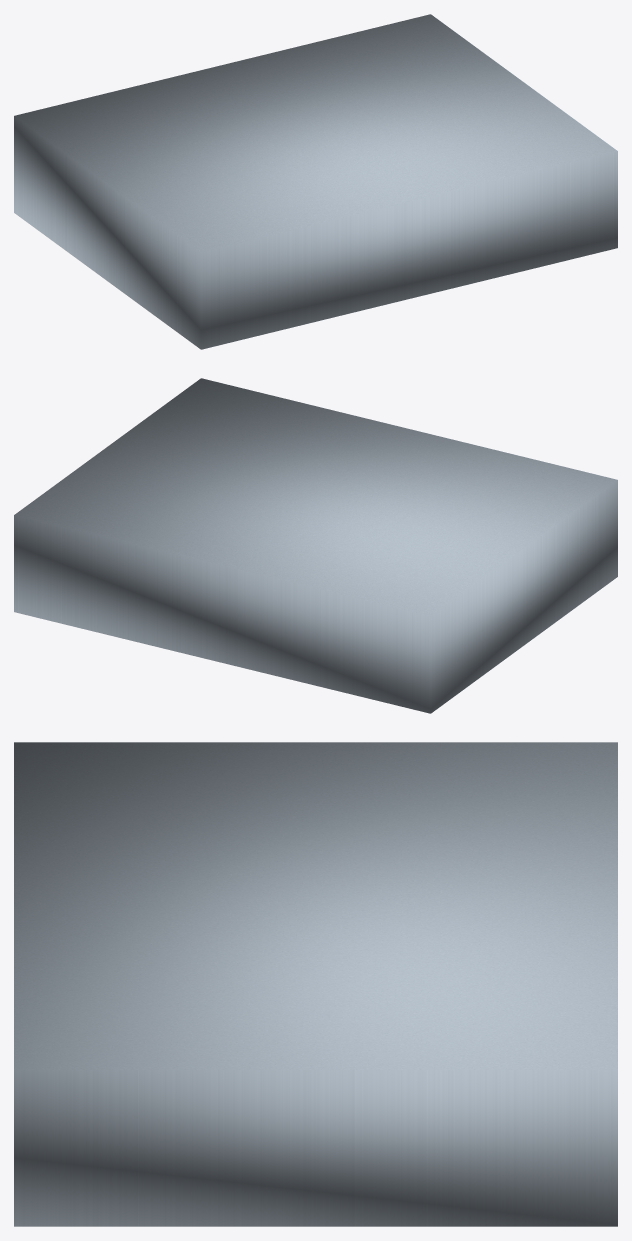
3 views of the same model, one above another, from view 1: azimuth 30°, elevation 25°; view 2: azimuth 150°, elevation 25°; view 3: azimuth 270°, elevation 25° (orthographic). The views are drawn at different scales.
Parts seen in each view (by area): view 1: L105_Y1_silver_0; view 2: L105_Y1_silver_0; view 3: L105_Y1_silver_0.
Boxes of the visible parts, box(x1,y1,x2,y2) form: L105_Y1_silver_0: box(14, 14, 617, 349); L105_Y1_silver_0: box(14, 378, 617, 713); L105_Y1_silver_0: box(14, 742, 617, 1226).
Size of the model in its own units: 0.009 by 0.002 by 0.007.
Materials: 2 (2 with a texture image).
